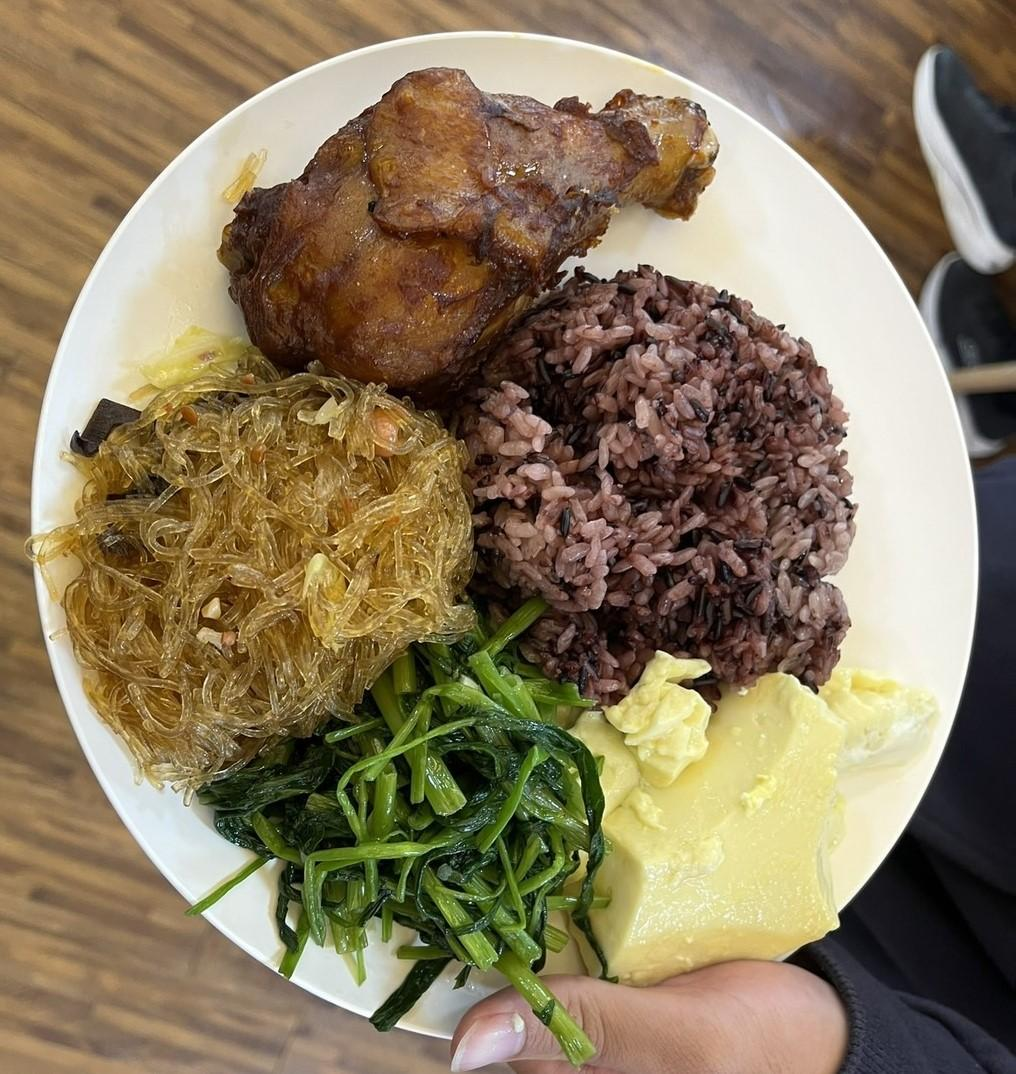big fried chicken leg: (23, 20, 991, 1046)
braised fish: (463, 270, 850, 694)
braised fish fillet: (63, 353, 469, 766), (227, 648, 598, 984), (575, 660, 933, 984)
braised pork: (225, 56, 710, 384)
